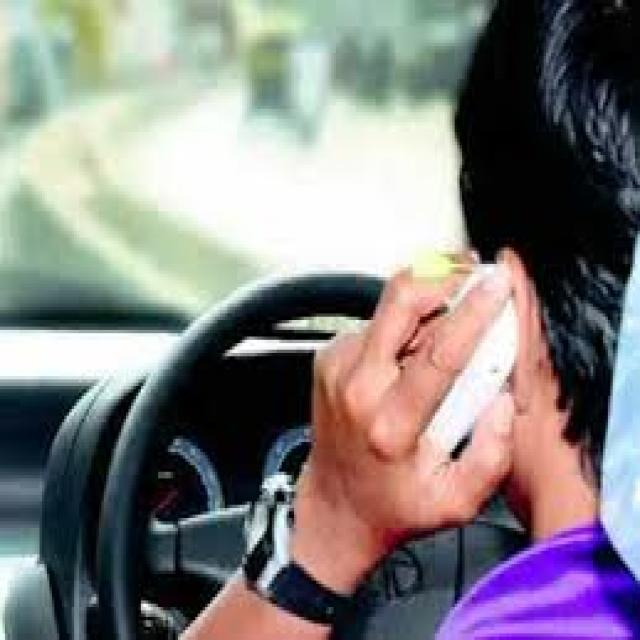Cellphone_calling: (301, 224, 561, 531)
